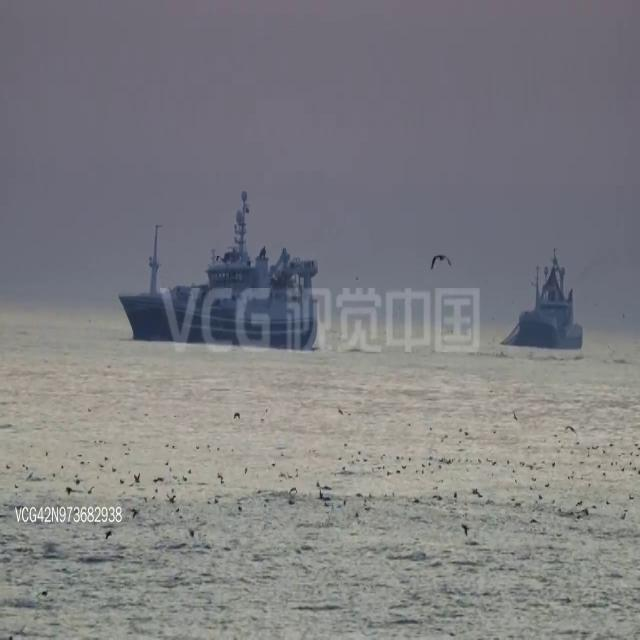houseboat: (112, 209, 320, 353), (514, 256, 586, 348)
